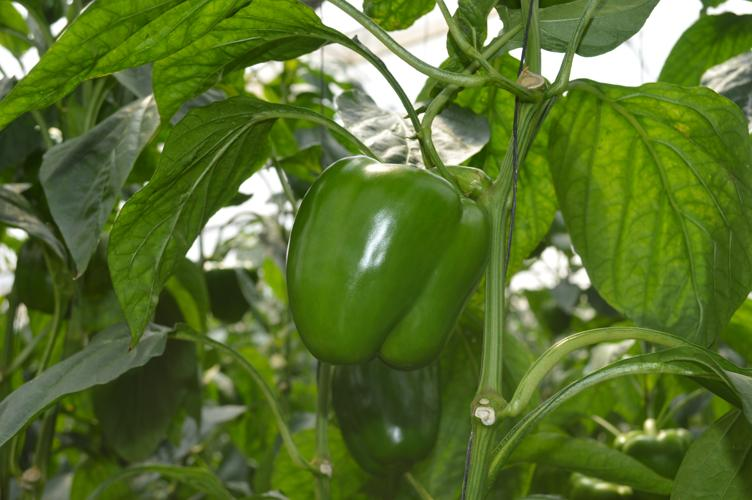BellPepper: (285, 154, 483, 368), (326, 356, 448, 467)
